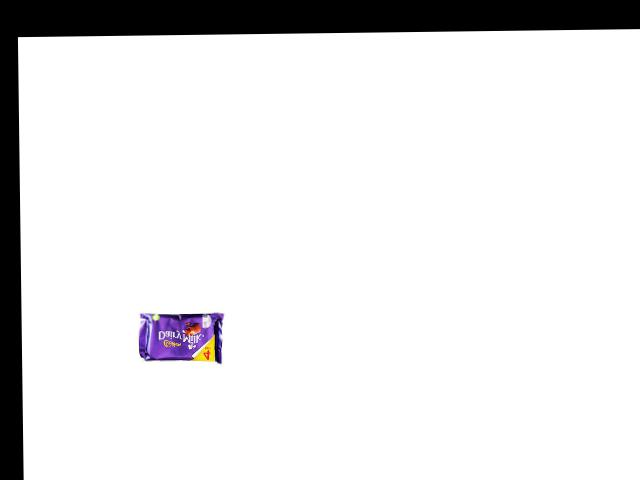chocolate: (135, 305, 234, 364)
